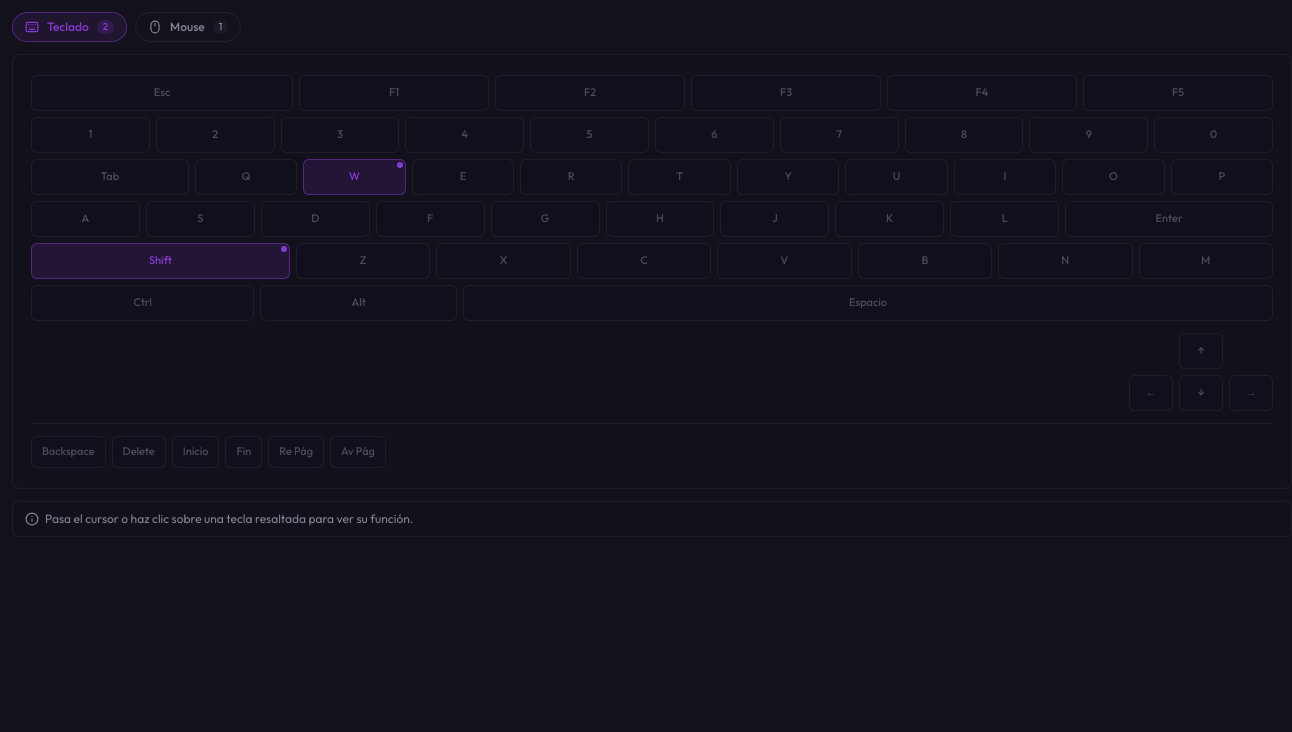
Test case: ControlsViewer › cambia de diagrama al elegir otro tipo de entrada
The image size is (1292, 732).
Click the button "Mouse 1": [188, 27] box [135, 12, 241, 42]
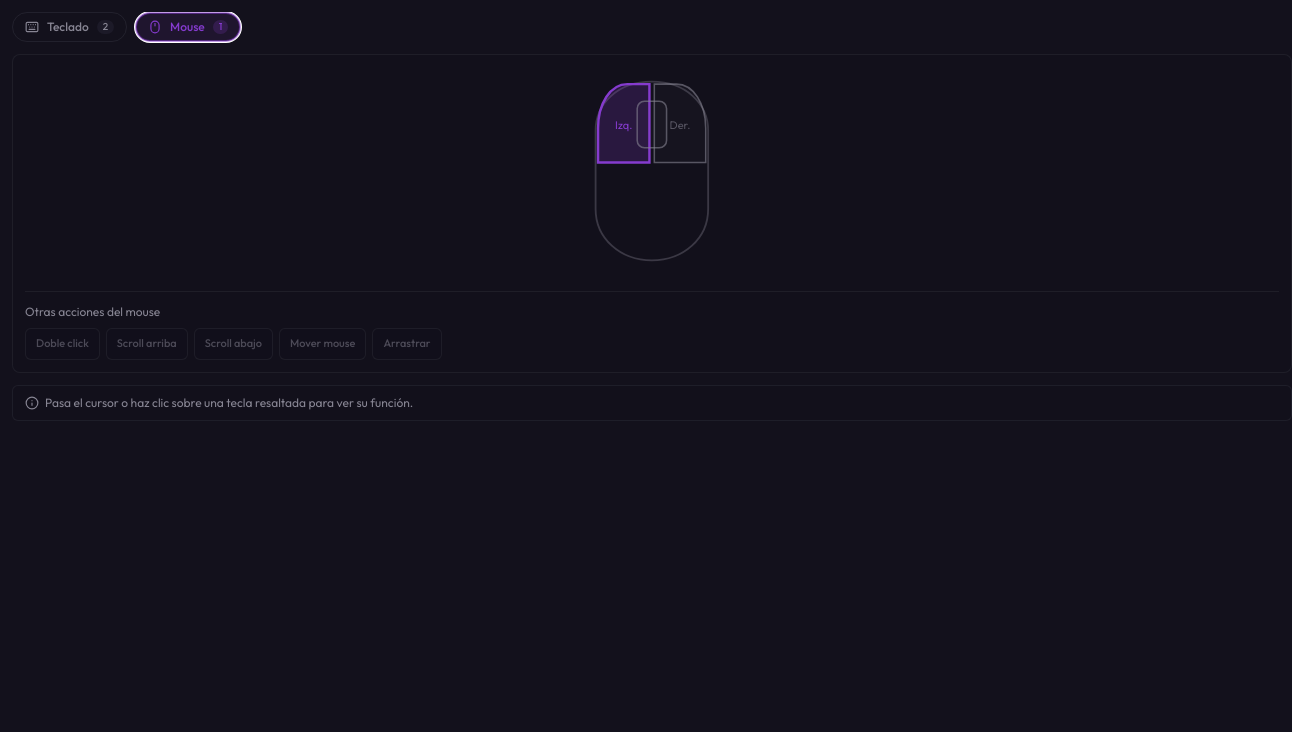
Now the picture named "mouse" is shown, box [554, 67, 750, 275]
